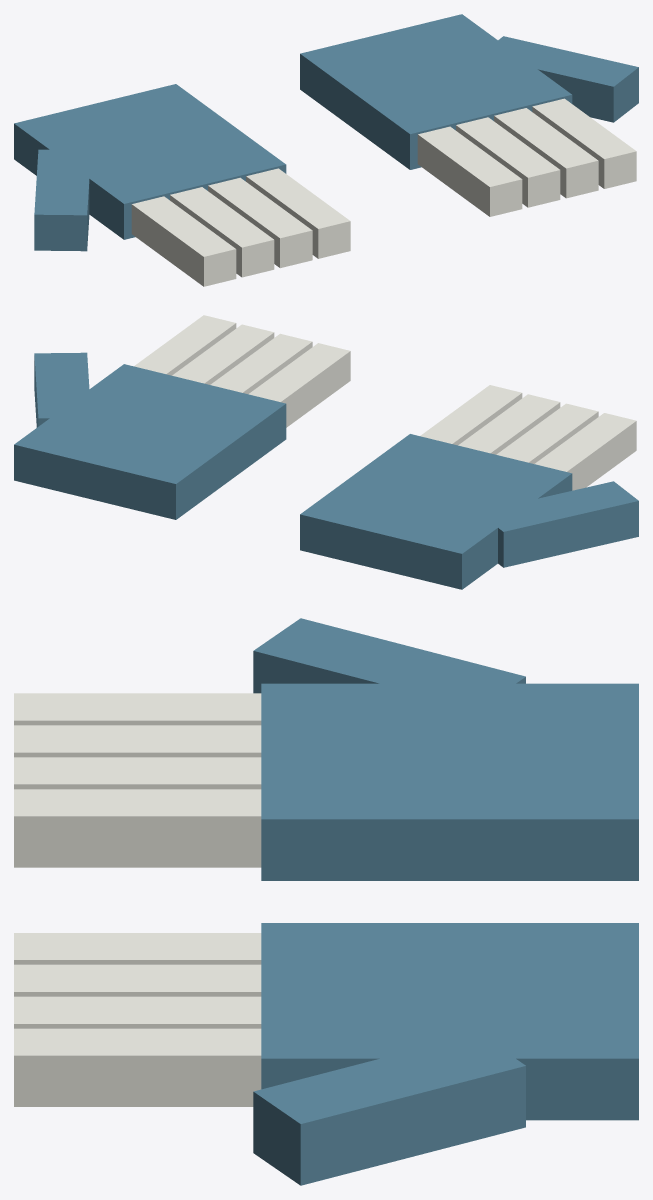
The model's file is american-football-stadium-kit-receiver-gloves-6fdd5a07__22371.glb.
3 views of the same model, one above another, from view 1: azimuth 30°, elevation 25°; view 2: azimuth 150°, elevation 25°; view 3: azimuth 270°, elevation 25° (orthographic). The views are drawn at different scales.
Parts seen in each view (by area): view 1: receiver-gloves; view 2: receiver-gloves; view 3: receiver-gloves.
Boxes of the visible parts, box(x1,y1,x2,y2) form: receiver-gloves: box(14, 14, 638, 286); receiver-gloves: box(14, 315, 638, 589); receiver-gloves: box(14, 618, 638, 1185).
Size of the model in its own units: 0.317 by 0.018 by 0.1655.
